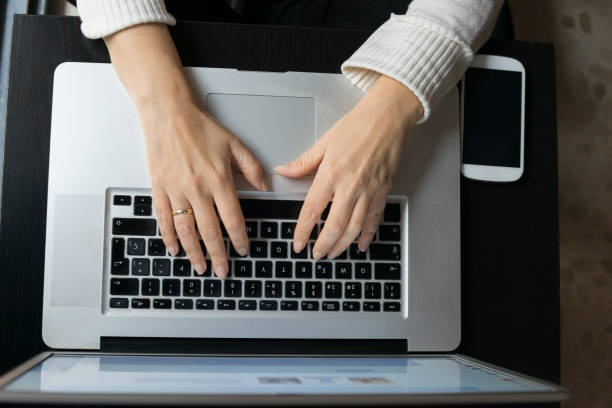keyboard: (106, 192, 404, 317)
phone: (459, 52, 529, 183)
